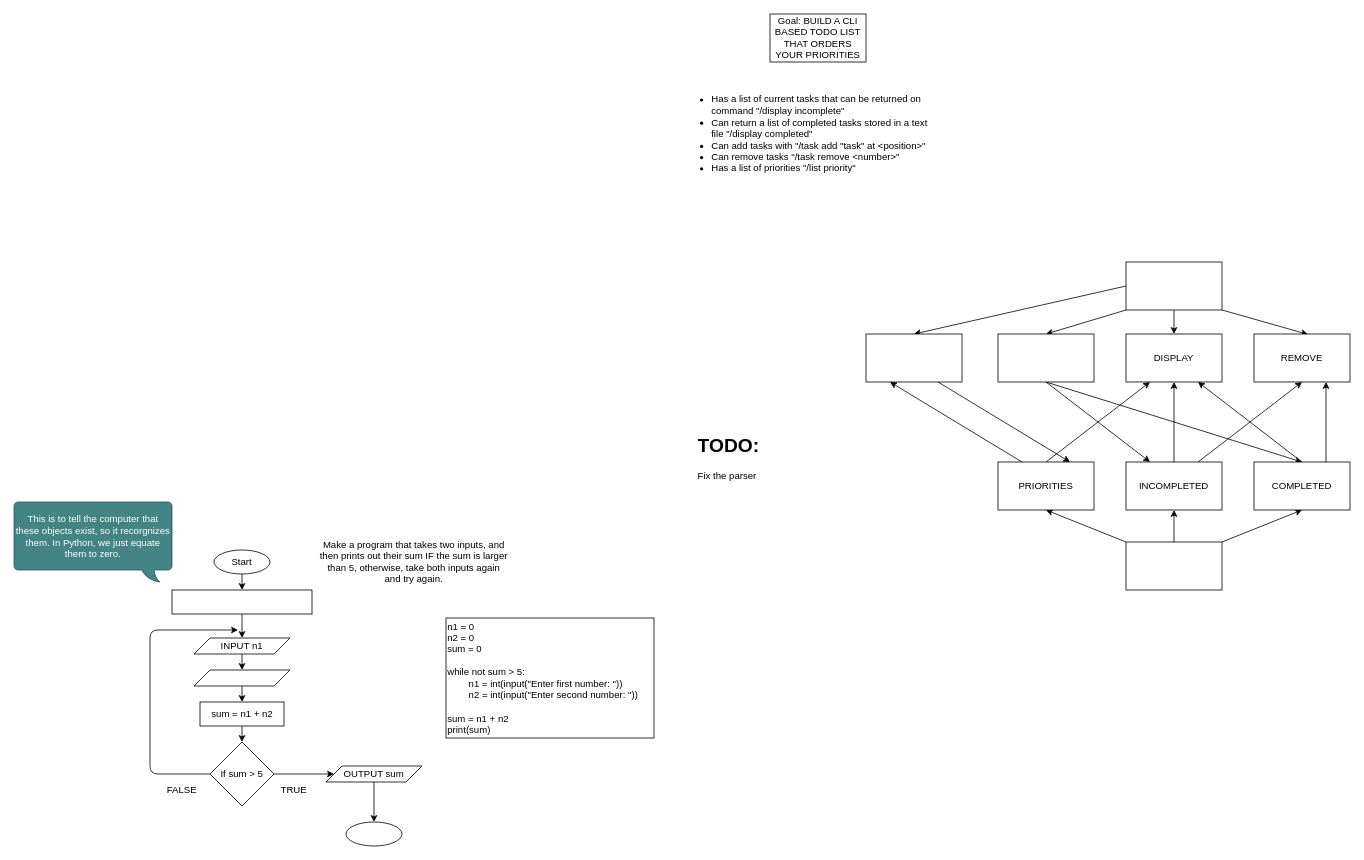
This 1364x860 diagram has some shape labels left out. Each missing label, with the centre of its shape:
"ADD" goes at [1045,357].
"INPUT n2" goes at [241,677].
"OPEN n1, n2, sum as integers" goes at [241,601].
"operations" goes at [1173,285].
"PRIORITIZE OR UNPRIORITIZE" goes at [913,357].
"Stop" goes at [373,833].
"storage" goes at [1173,565].
